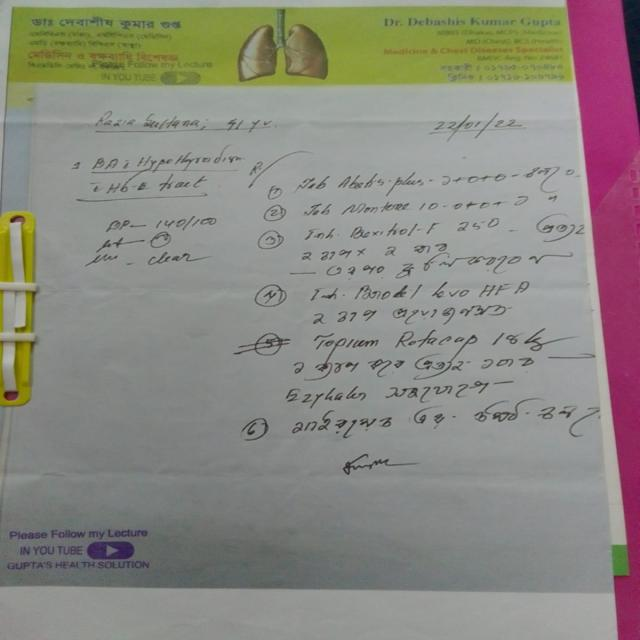Abetis Plus: (336, 160, 429, 193)
Bexitrol F: (342, 217, 443, 238)
Brodil Levo HFA: (346, 279, 538, 300)
Montene: (338, 198, 413, 217)
Topium Rotacap: (300, 328, 485, 352)
